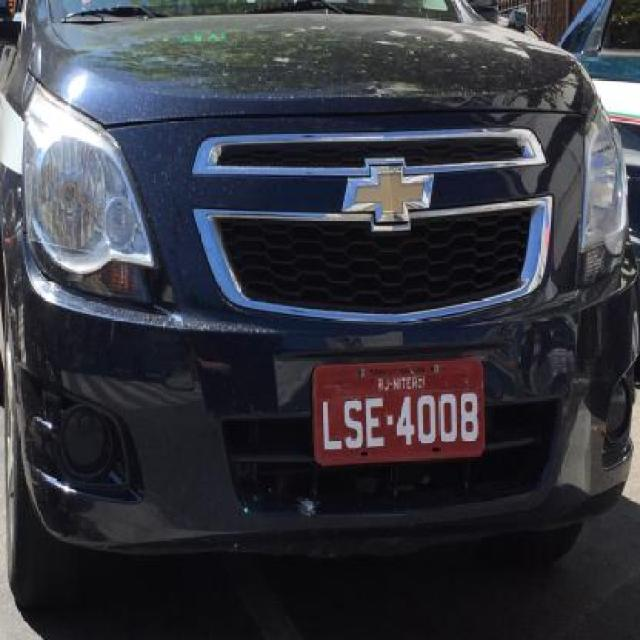old_plate: (304, 353, 492, 473)
